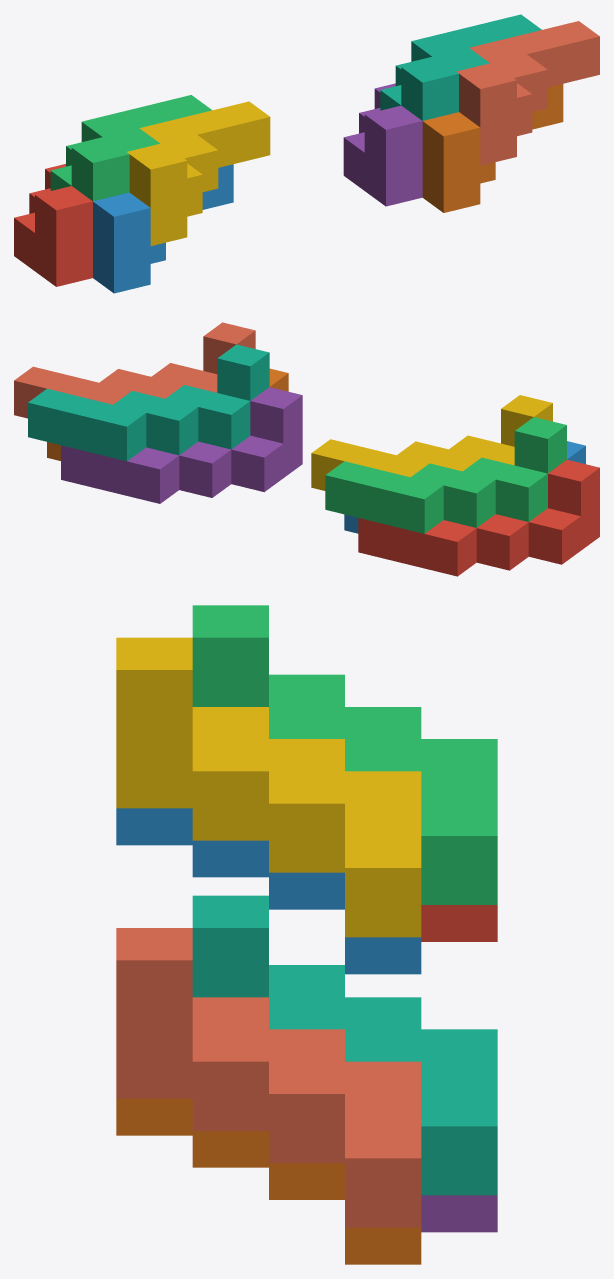
Rendered from tiling.obj.
The picture shows the model from 3 angles, top to bottom: view 1: azimuth 30°, elevation 25°; view 2: azimuth 150°, elevation 25°; view 3: azimuth 270°, elevation 25°; orthographic projection. The views are drawn at different scales.
Visible parts, largest first — view 1: copy_1_domain_4, copy_1_domain_8, copy_1_domain_3, copy_1_domain_7, copy_1_domain_5, copy_1_domain_1, copy_1_domain_6, copy_1_domain_2; view 2: copy_1_domain_3, copy_1_domain_7, copy_1_domain_5, copy_1_domain_1, copy_1_domain_8, copy_1_domain_4, copy_1_domain_6, copy_1_domain_2; view 3: copy_1_domain_4, copy_1_domain_8, copy_1_domain_7, copy_1_domain_3, copy_1_domain_2, copy_1_domain_6, copy_1_domain_5, copy_1_domain_1.
Boxes of the visible parts, x1,y1,x2,y2 form: copy_1_domain_4: [127, 101, 270, 245]; copy_1_domain_8: [456, 21, 599, 165]; copy_1_domain_3: [50, 95, 211, 201]; copy_1_domain_7: [380, 14, 541, 120]; copy_1_domain_5: [343, 83, 422, 206]; copy_1_domain_1: [14, 164, 92, 286]; copy_1_domain_6: [422, 84, 563, 212]; copy_1_domain_2: [93, 164, 233, 293]; copy_1_domain_3: [325, 417, 566, 533]; copy_1_domain_7: [28, 344, 269, 461]; copy_1_domain_5: [61, 387, 302, 503]; copy_1_domain_1: [358, 459, 599, 576]; copy_1_domain_8: [14, 322, 255, 418]; copy_1_domain_4: [311, 395, 552, 490]; copy_1_domain_6: [47, 368, 288, 460]; copy_1_domain_2: [344, 441, 585, 533]; copy_1_domain_4: [116, 637, 421, 937]; copy_1_domain_8: [116, 928, 421, 1227]; copy_1_domain_7: [192, 895, 497, 1195]; copy_1_domain_3: [192, 605, 497, 904]; copy_1_domain_2: [116, 808, 421, 974]; copy_1_domain_6: [116, 1098, 421, 1264]; copy_1_domain_5: [421, 1195, 497, 1232]; copy_1_domain_1: [421, 905, 497, 941].
Size of the model in its own units: 16 by 3 by 5.
